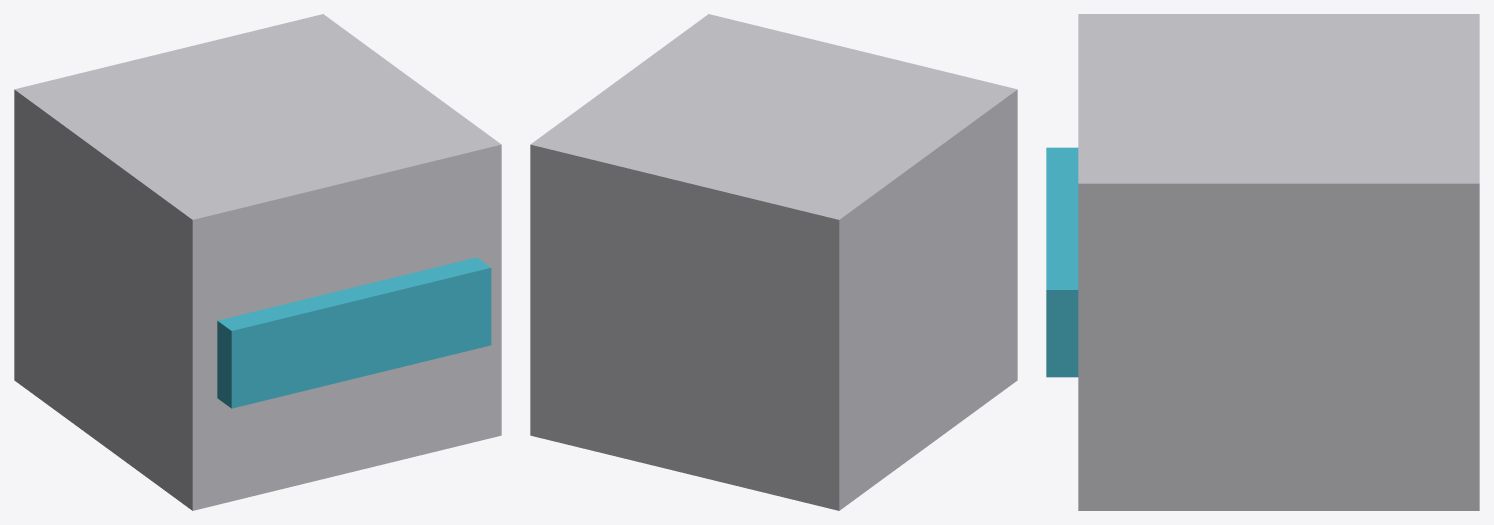
File: head_001.glb
The picture shows the model from 3 angles, left to right: view 1: azimuth 30°, elevation 25°; view 2: azimuth 150°, elevation 25°; view 3: azimuth 270°, elevation 25°; orthographic projection. The views are drawn at different scales.
Visible parts, largest first — view 1: geometry_0, geometry_1; view 2: geometry_0; view 3: geometry_0, geometry_1.
Part boxes in pixels (<box>): geometry_0: <box>14,14,501,510</box>; geometry_1: <box>217,257,491,408</box>; geometry_0: <box>530,14,1017,510</box>; geometry_0: <box>1078,14,1479,510</box>; geometry_1: <box>1046,147,1078,377</box>.
Size of the model in its own units: 0.5 by 0.45 by 0.54.
